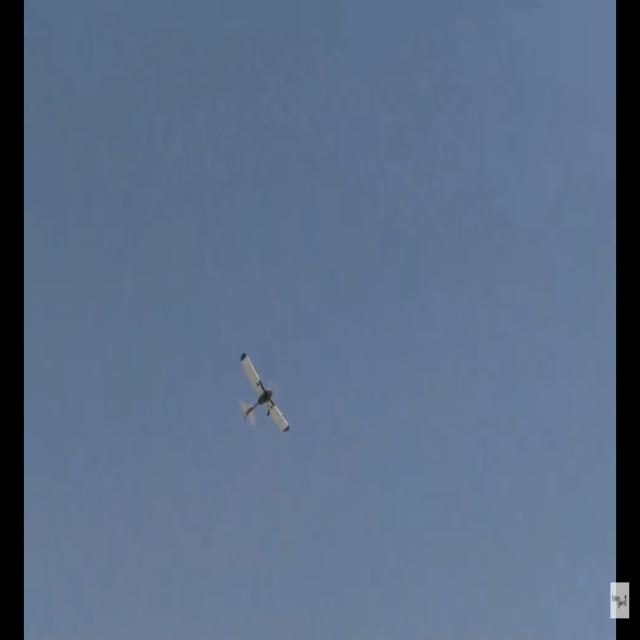iha: (231, 376, 284, 397)
